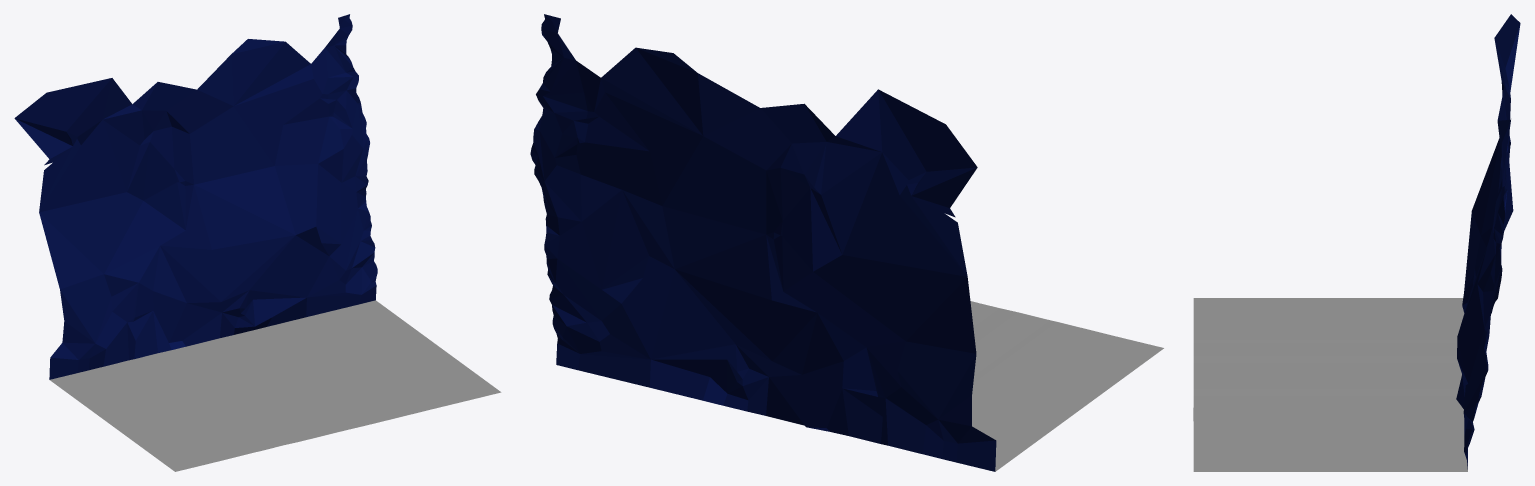
3 views of the same model, side by side, from view 1: azimuth 30°, elevation 25°; view 2: azimuth 150°, elevation 25°; view 3: azimuth 270°, elevation 25° (orthographic). The views are drawn at different scales.
Parts seen in each view (by area): view 1: Object001; view 2: Object001; view 3: Object001.
Part boxes in pixels (bbox=[...]): Object001: bbox=[14, 14, 501, 471]; Object001: bbox=[530, 14, 1163, 471]; Object001: bbox=[1193, 14, 1520, 471].
Size of the model in its own units: 210 by 161 by 159.
